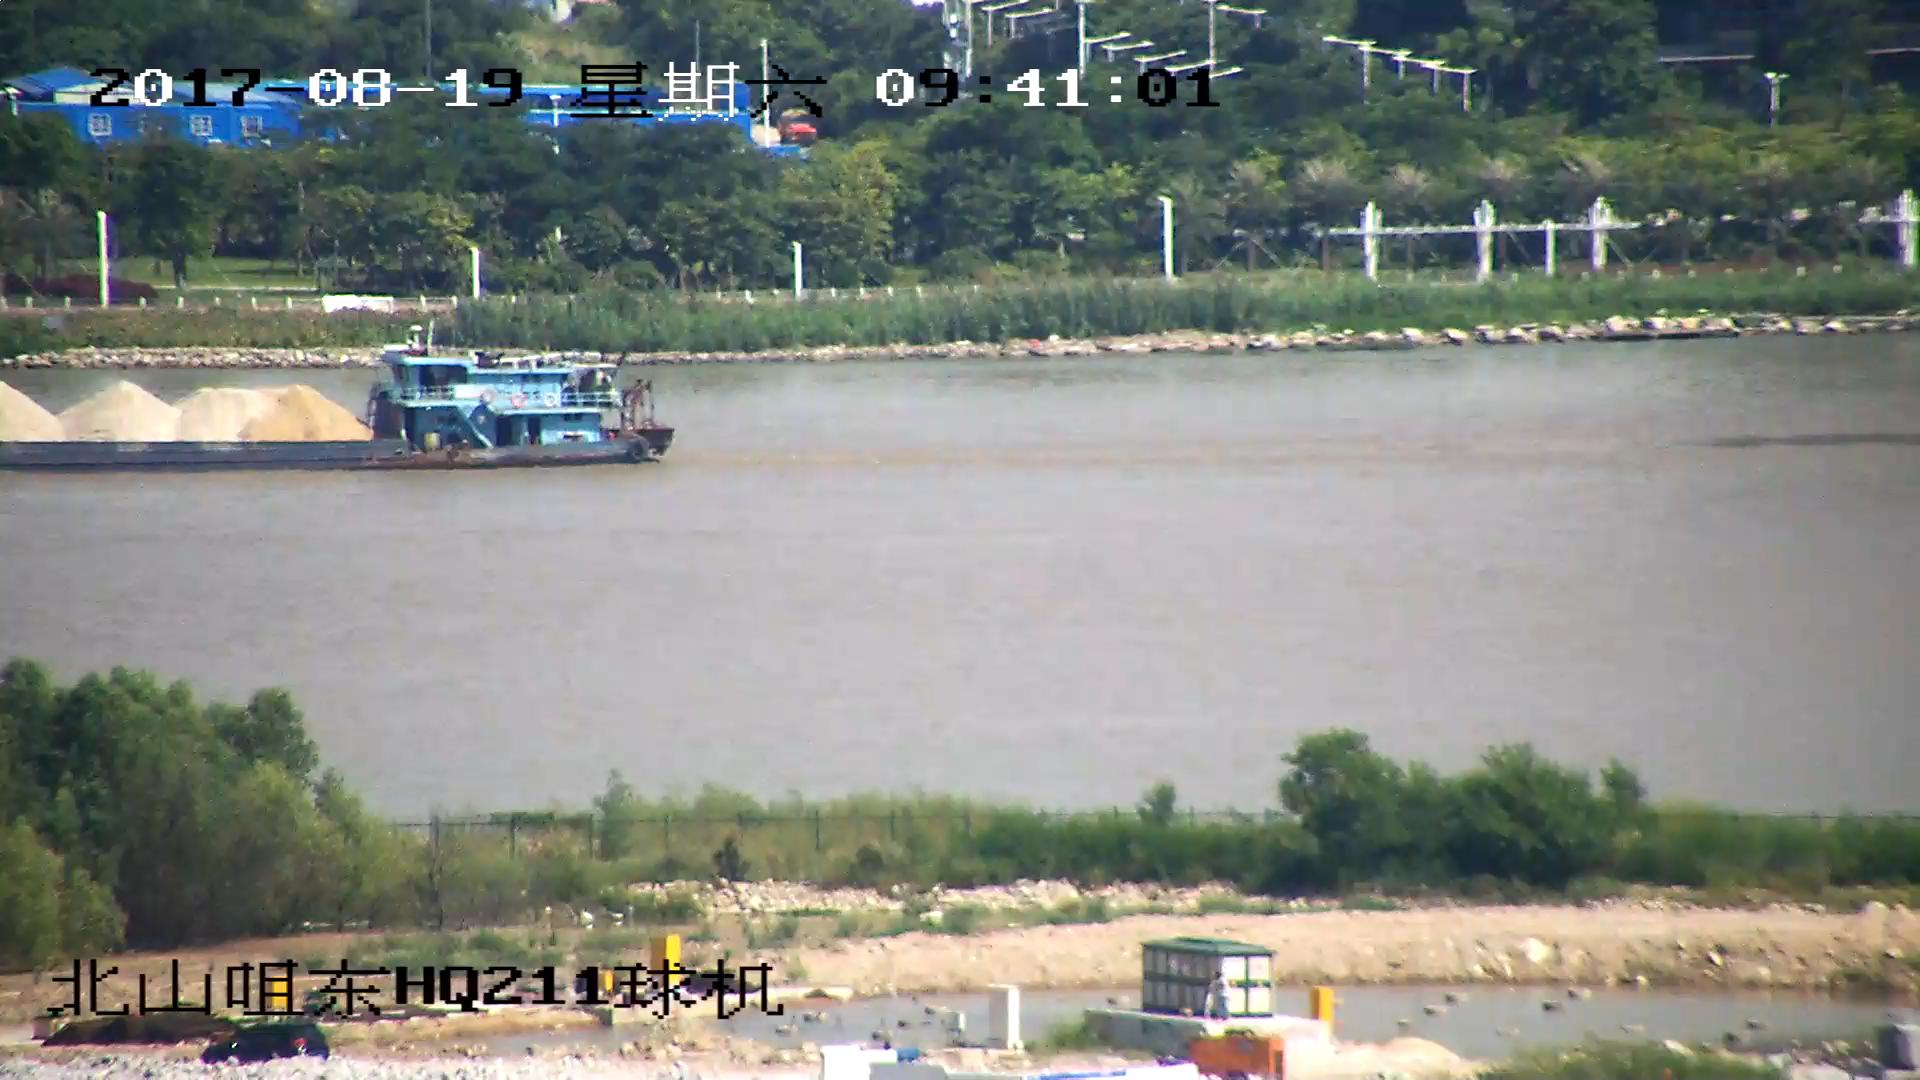ore carrier: (1, 315, 679, 471)
